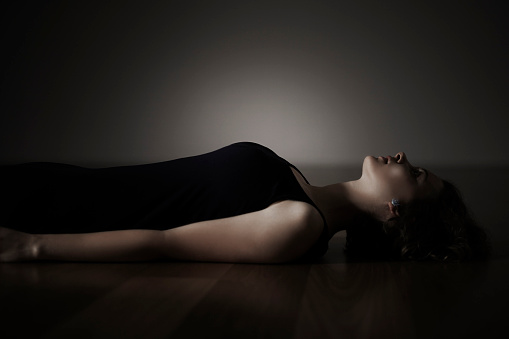deitado: (0, 82, 488, 325)
